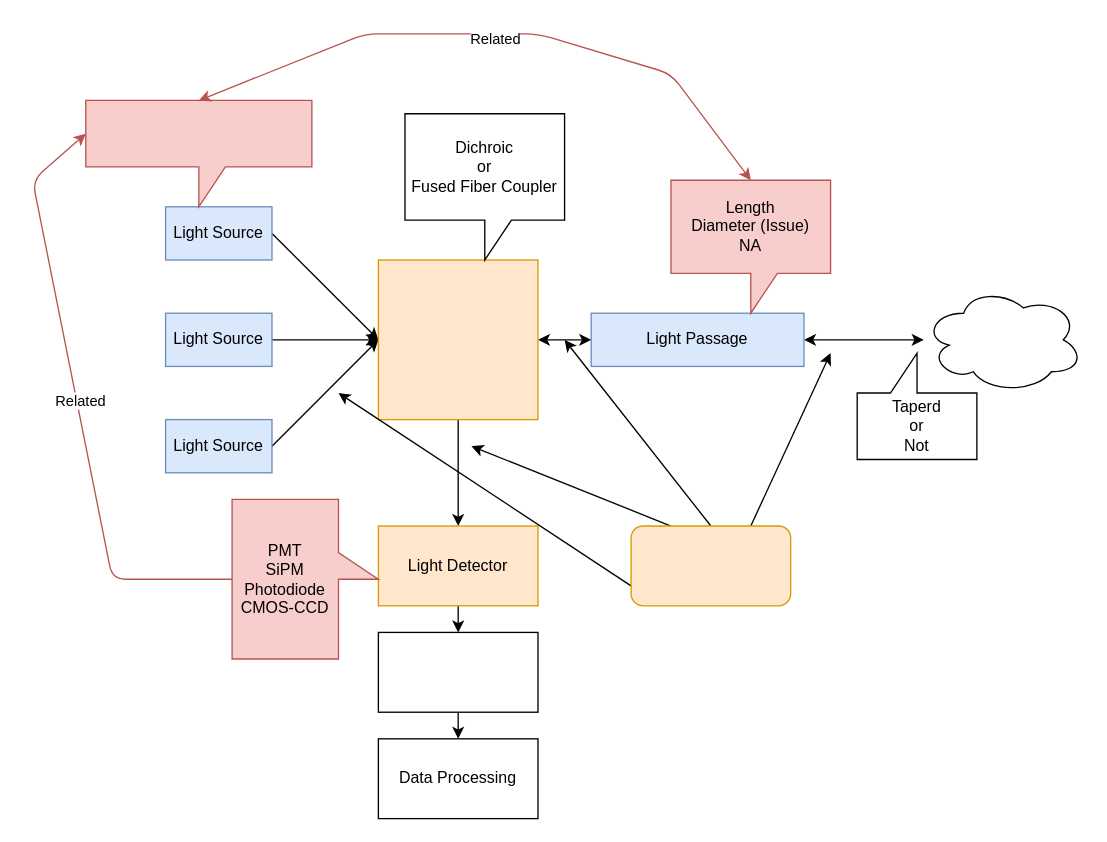
This 1107x842 diagram has some shape labels left out. The centre of each missing label's shape, as x and y in pixels:
"Electronics" goes at point (457, 671).
"Fiber Connectors" goes at point (710, 565).
"Light Combine and Splite" goes at point (457, 339).
"Power (System Loss dependent)" goes at point (198, 153).
"Target" goes at point (1002, 339).
